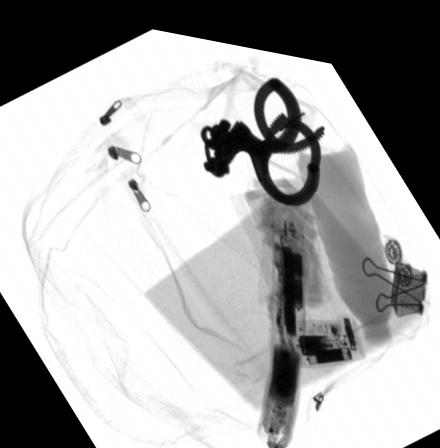Baton: (254, 214, 305, 440)
HandCuffs: (196, 63, 325, 195)
